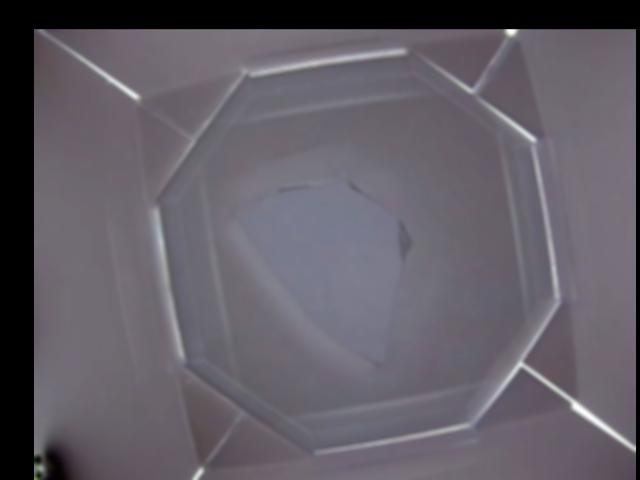China: (247, 174, 414, 371)
